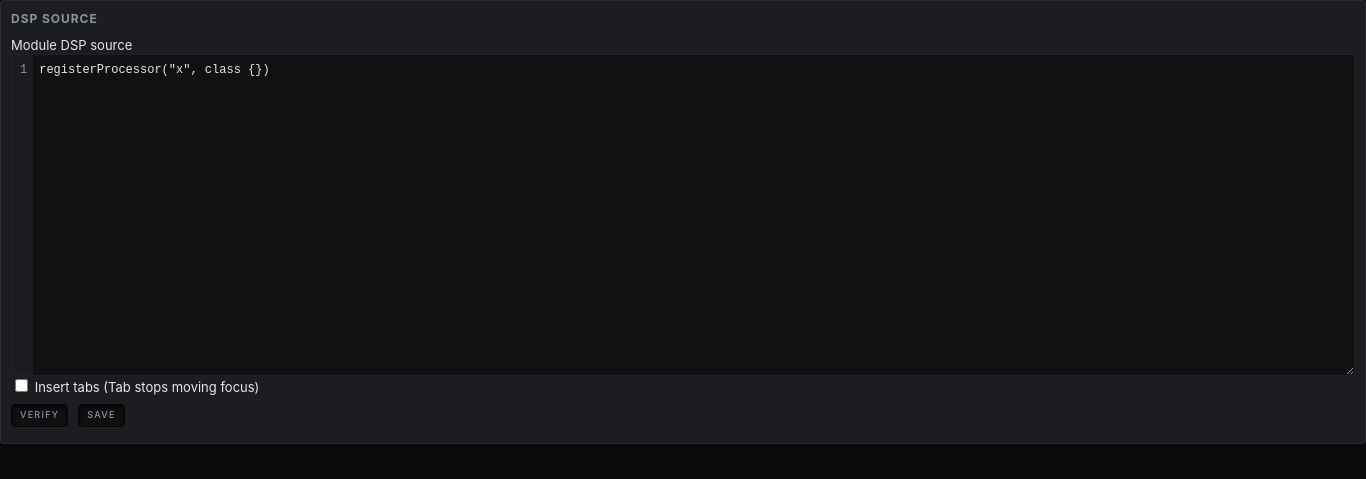
DspCodePanel › renders the verification failure as text and leaves Save disabled
The width and height of the screenshot is (1366, 479).
Click the button "Verify" at (40, 416), box [11,404,68,427]
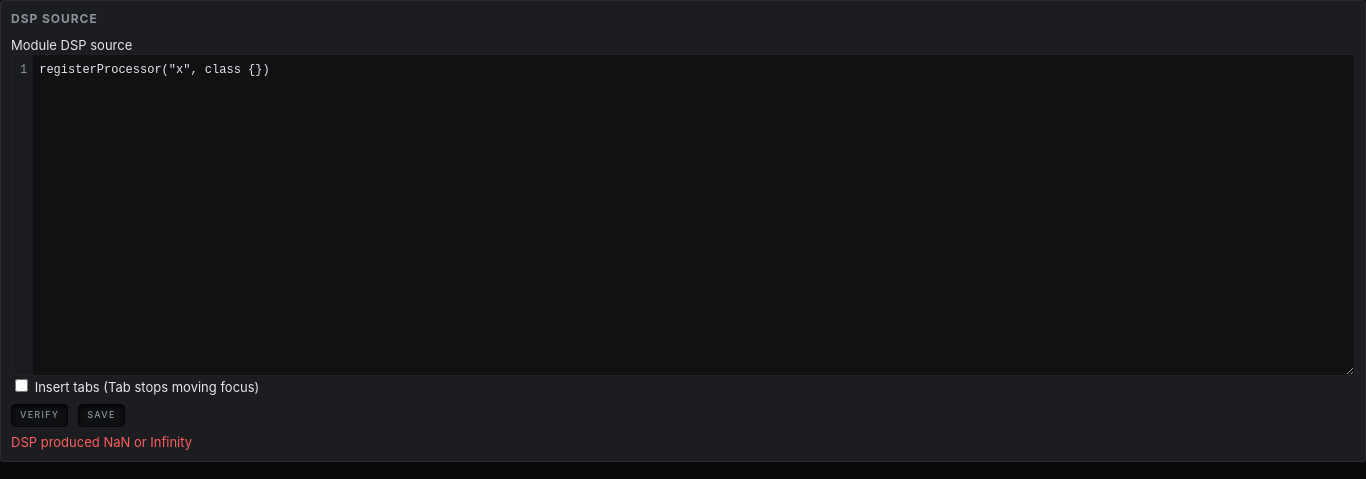
Expected: the button "Save" is disabled, [78,404,125,427]
Expected: the text with class "editor-msg" reads "DSP produced NaN or Infinity", [11,434,192,450]
